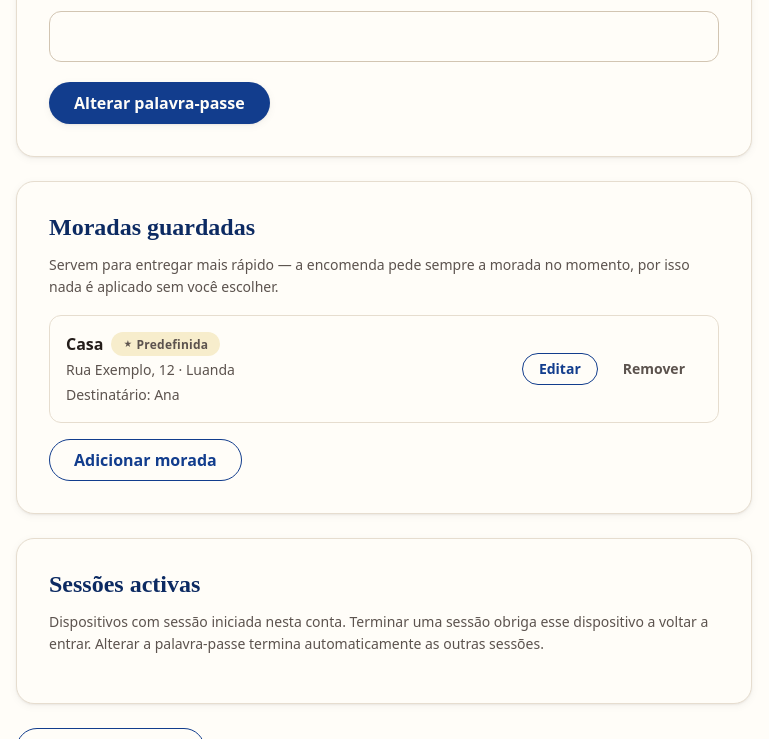
Test: ProfilePage › remover morada pede confirmação antes de apagar
The image size is (769, 739).
(page scrolled)
Check: the text "Rua Exemplo, 12 · Luanda" is shown, box [66, 359, 235, 382]
Click the button "Remover". click: (654, 369)
box: [606, 353, 702, 385]
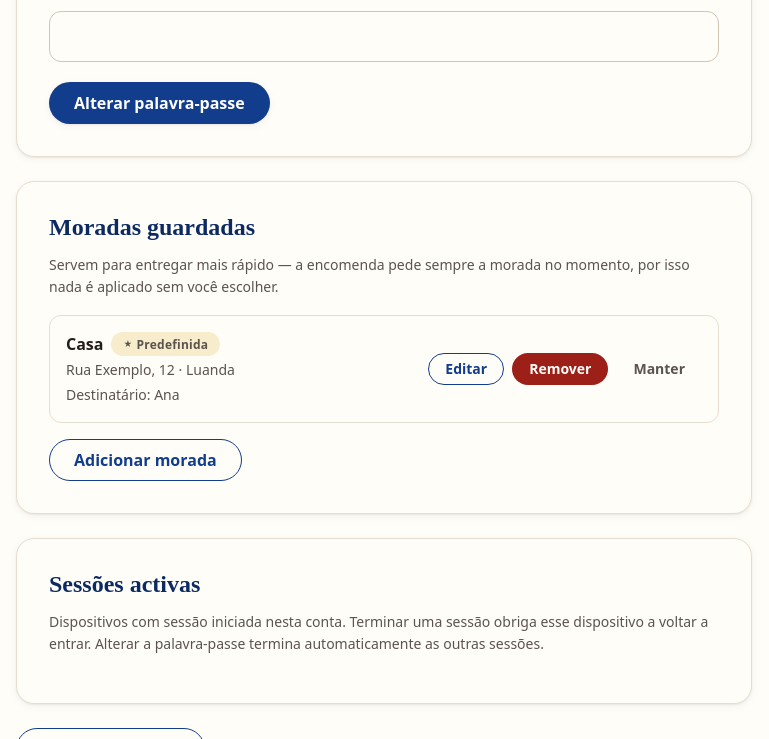
Click the button "Remover". click: (560, 369)
box: [512, 353, 608, 385]
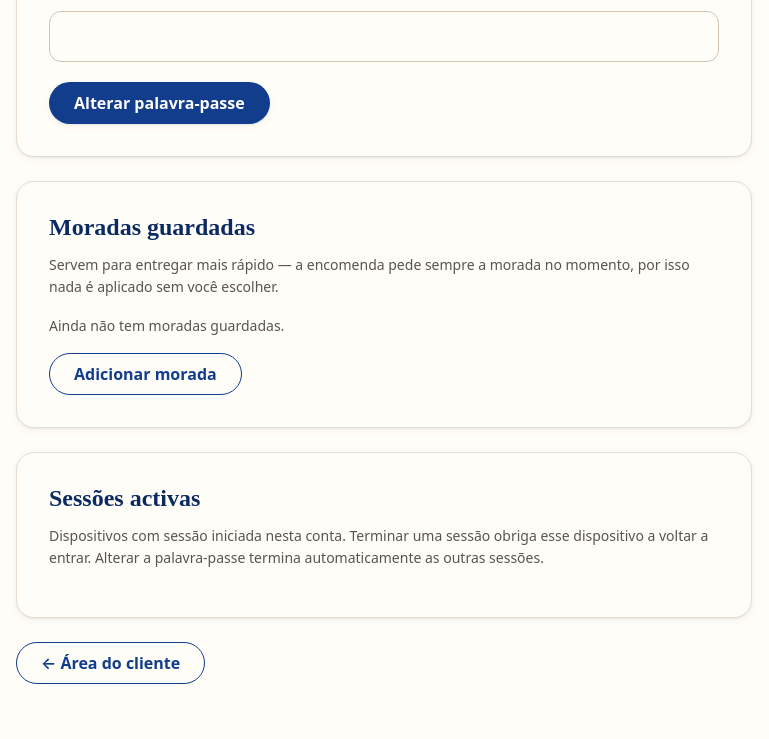
Check: the text "Ainda não tem moradas guardadas." is shown, box [49, 316, 284, 335]
